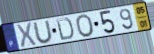5: (99, 9, 117, 35)
9: (119, 8, 135, 30)
D: (55, 17, 75, 42)
O: (75, 13, 96, 38)
U: (32, 19, 55, 44)
X: (15, 22, 38, 50)
